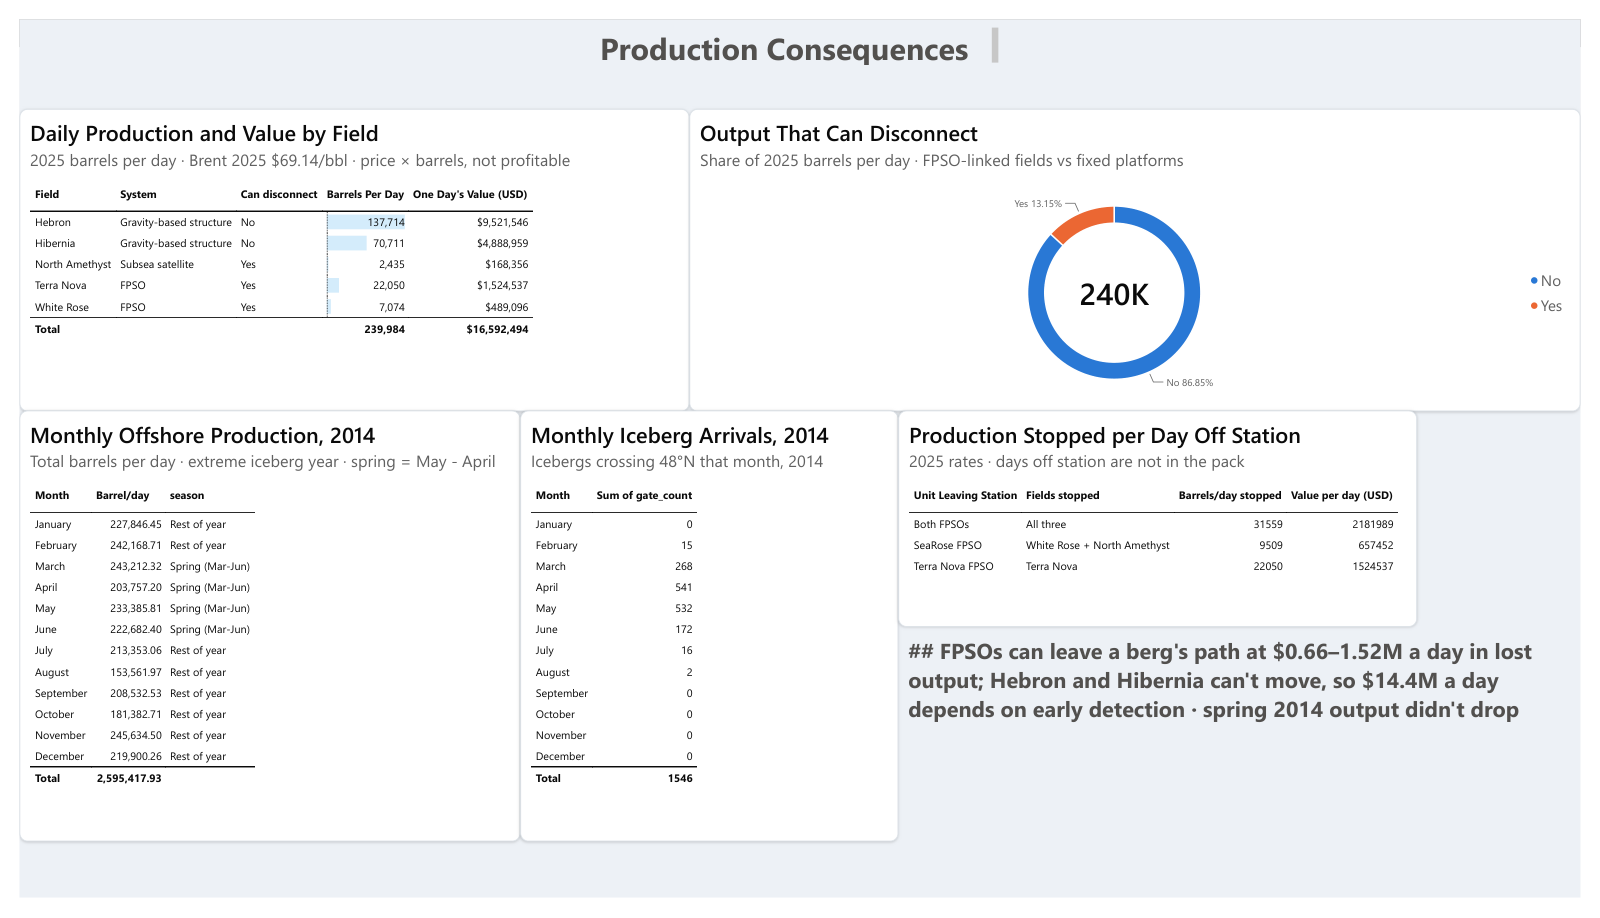

The page's visual inventory and layout, read from the dashboard file:
{"tool":"powerbi","page":{"name":"4 Production","canvas":[1920,1080],"ordinal":3},"visuals":[{"type":"textbox","box":[10,0,280,280],"z":0},{"type":"textbox","box":[702,0,514,66],"z":1},{"type":"tableEx","title":"Daily Production and Value by Field","fields":{"Values":["s4_field_bpd_value.field_name","s4_field_bpd_value.production_system","s4_field_bpd_value.can_disconnect","Sum(s4_field_bpd_value.bbl_per_day)","Sum(s4_field_bpd_value.one_day_value_usd)"]},"box":[0,110,824,372],"z":2},{"type":"donutChart","title":"Output That Can Disconnect","fields":{"Category":["s4_field_bpd_value.can_disconnect"],"Y":["Sum(s4_field_bpd_value.bbl_per_day)"]},"box":[824,110,1096,372],"z":3},{"type":"tableEx","title":"Monthly Offshore Production, 2014","fields":{"Values":["s4_extreme_year_monthly.month_name","Sum(s4_extreme_year_monthly.bbl_per_day)","s4_extreme_year_monthly.season"]},"box":[0,481.4,615.7,530],"z":5},{"type":"tableEx","title":"Monthly Iceberg Arrivals, 2014","fields":{"Values":["s4_extreme_year_monthly.month_name","Sum(s4_extreme_year_monthly.gate_count)"]},"box":[615.7,481.4,465.7,530],"z":6},{"type":"tableEx","title":"Production Stopped per Day Off Station","fields":{"Values":["s4_fpso_off_station.unit_off_station","s4_fpso_off_station.fields_stopped","Sum(s4_fpso_off_station.bbl_per_day)","Sum(s4_fpso_off_station.one_day_value_usd)"]},"box":[1081.4,481.4,637.1,265.7],"z":7},{"type":"textbox","box":[1081.4,747.1,838.6,197.1],"z":8}]}

Visuals, with their boxes in screenshot pixels (x1, y1, x2, y2), scaled from the page's 1920x1080 canvas onto the 1600x918 screenshot:
textbox: crop(8, 0, 242, 238)
textbox: crop(585, 0, 1013, 56)
"Daily Production and Value by Field" tableEx: crop(0, 94, 687, 410)
"Output That Can Disconnect" donutChart: crop(687, 94, 1599, 410)
"Monthly Offshore Production, 2014" tableEx: crop(0, 409, 513, 860)
"Monthly Iceberg Arrivals, 2014" tableEx: crop(513, 409, 901, 860)
"Production Stopped per Day Off Station" tableEx: crop(901, 409, 1432, 635)
textbox: crop(901, 635, 1599, 803)
